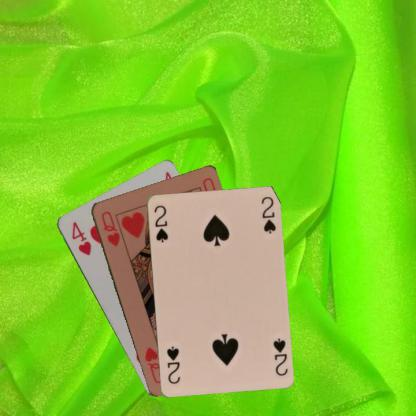2s: (270, 335, 289, 377), (152, 203, 170, 244)
4h: (69, 219, 92, 257)
Qh: (98, 208, 122, 249)
